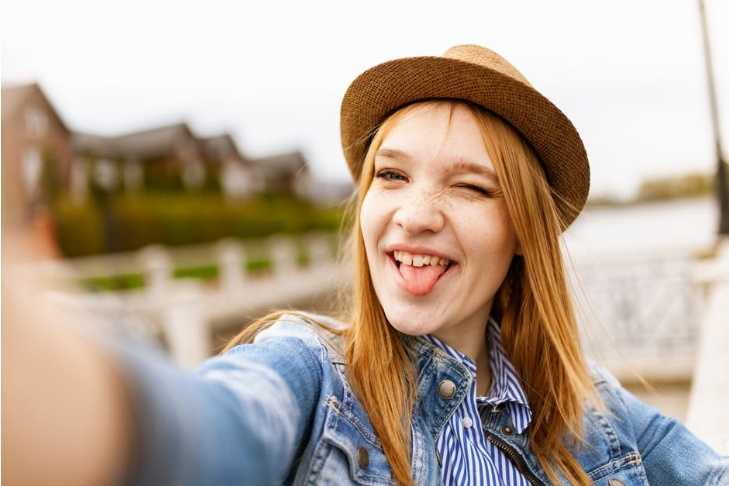face: (362, 100, 514, 331)
